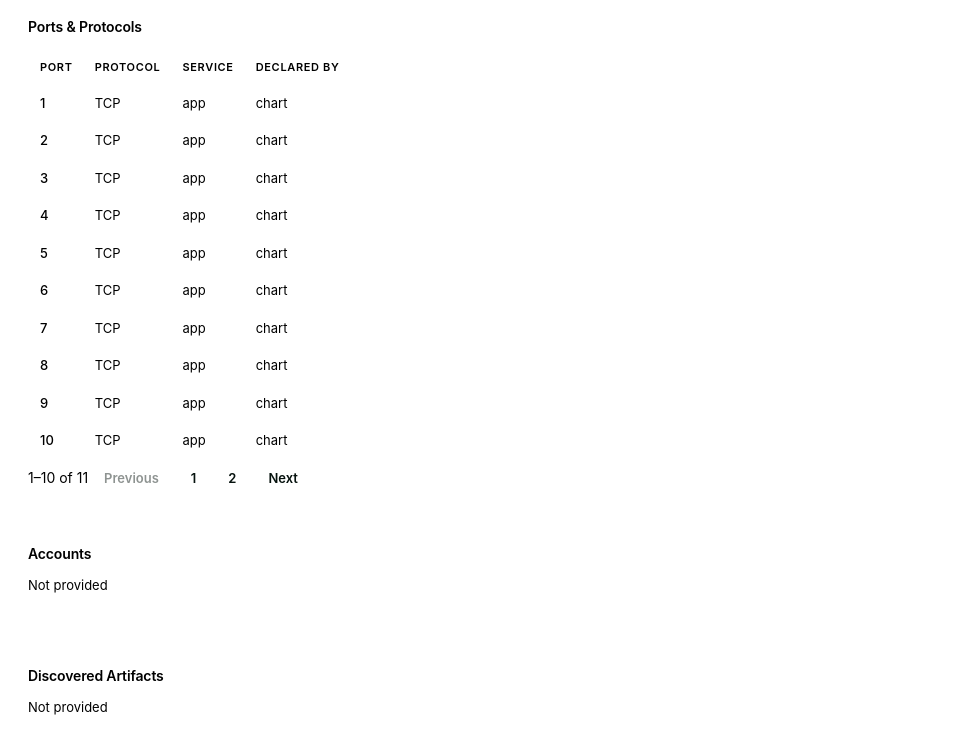
public scan results › paginates static overview evidence and exposes diagnostics without policy actions
(page scrolled)
Expected: the text "1–10 of 11" is shown, [28, 469, 88, 486]
Click the button "Next". click: (283, 479)
box: [252, 461, 314, 497]
(page scrolled)
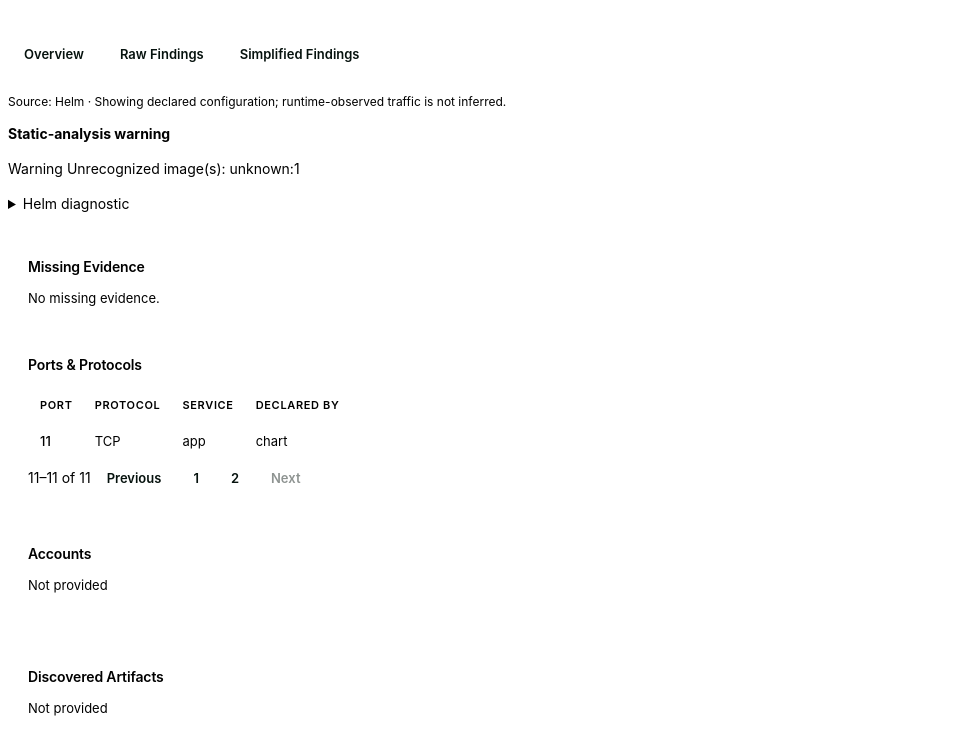
Expected: the heading "Helm diagnostic" is shown, [23, 195, 129, 212]
Expected: the text "11–11 of 11" is shown, [28, 469, 91, 486]
